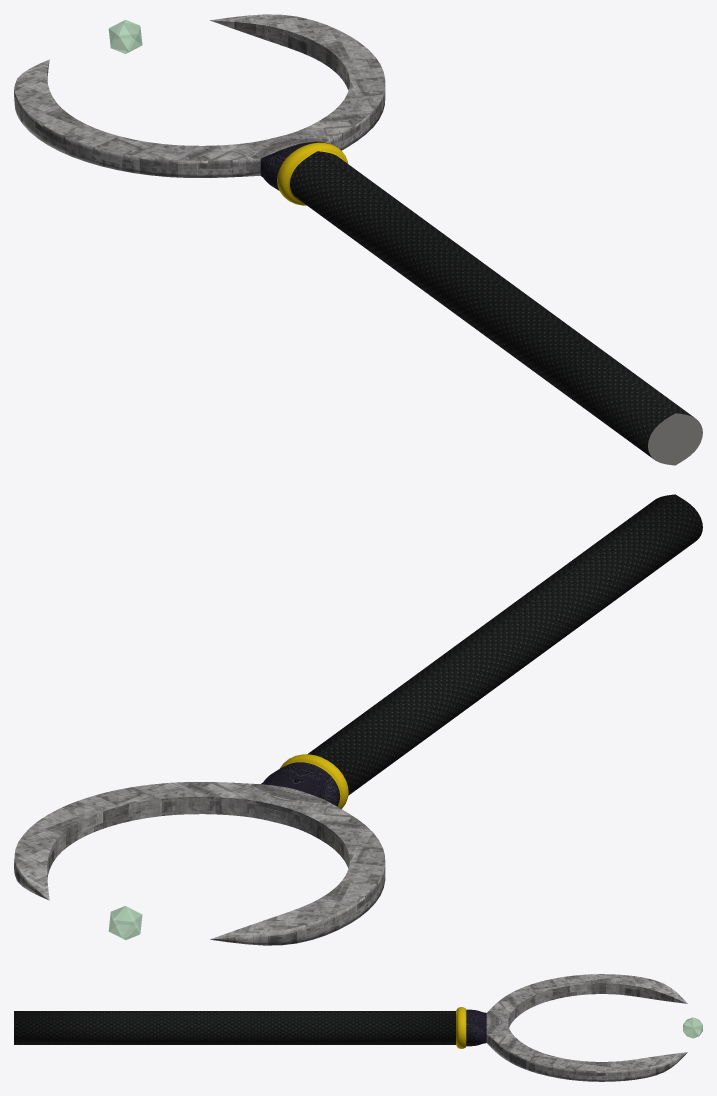
File: weapon.dae
3 views of the same model, one above another, from view 1: azimuth 30°, elevation 25°; view 2: azimuth 150°, elevation 25°; view 3: azimuth 270°, elevation 25° (orthographic). The views are drawn at different scales.
Parts seen in each view (by area): view 1: Cylinder, Icosphere; view 2: Cylinder, Icosphere; view 3: Cylinder, Icosphere.
Part boxes in pixels (x1,y1,x2,y2): Cylinder: (14, 14, 702, 465); Icosphere: (108, 19, 142, 53); Cylinder: (14, 494, 702, 945); Icosphere: (108, 906, 142, 940); Cylinder: (14, 974, 687, 1081); Icosphere: (683, 1017, 702, 1038).
Size of the model in its own units: 1.95 by 5.85 by 0.3426.
